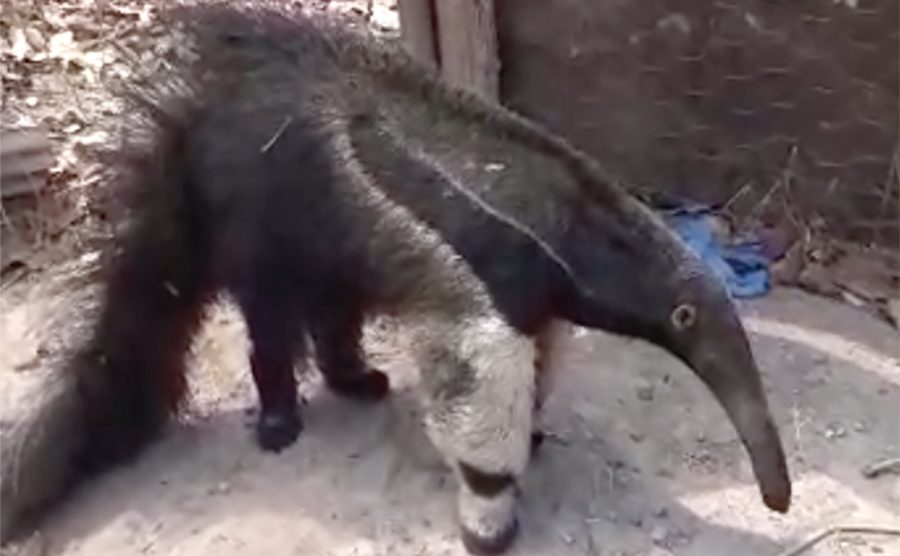TamanduaBandeira: (15, 12, 799, 546)
